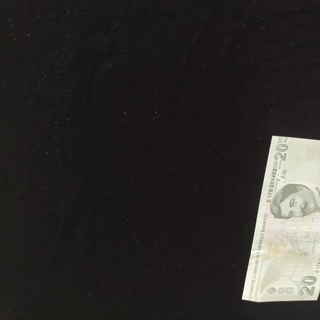20TLBack: (241, 135, 320, 302)
